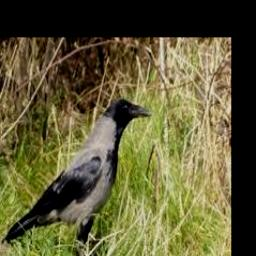Crow: (1, 99, 152, 256)
